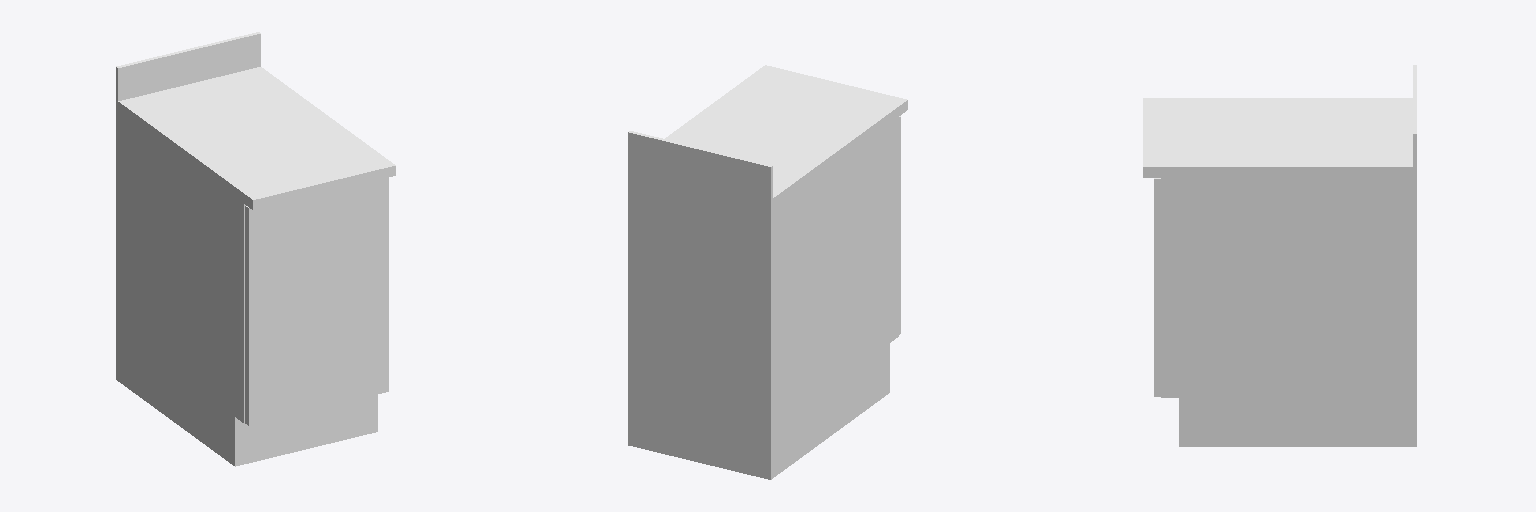
Rendered from color_1_asset_1.obj.
3 views of the same model, side by side, from view 1: azimuth 30°, elevation 25°; view 2: azimuth 150°, elevation 25°; view 3: azimuth 270°, elevation 25° (orthographic).
Visible parts, largest first — view 1: Body_1, Body_2; view 2: Body_1, Body_2; view 3: Body_1, Body_2.
Boxes of the visible parts, x1,y1,x2,y2 form: Body_1: [116, 110, 388, 466]; Body_2: [116, 32, 395, 210]; Body_1: [628, 116, 900, 479]; Body_2: [628, 65, 907, 210]; Body_1: [1154, 178, 1416, 446]; Body_2: [1143, 65, 1416, 177].
Size of the model in its own units: 0.4572 by 0.9589 by 0.762.